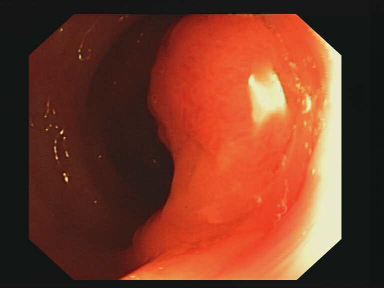polyp: (137, 12, 333, 185)
